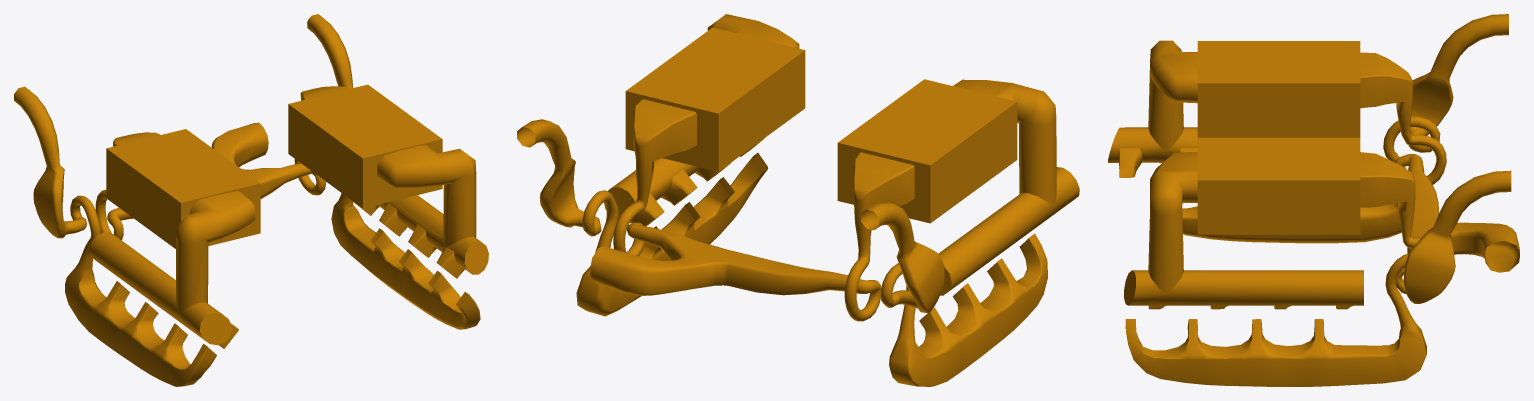
File: qilu.fbx
3 renders of one model, left to right at view 1: azimuth 30°, elevation 25°; view 2: azimuth 150°, elevation 25°; view 3: azimuth 270°, elevation 25°, orthographic. The views are drawn at different scales.
Parts seen in each view (by area): view 1: qilu, jinqi_003; view 2: qilu, jinqi_003; view 3: qilu, jinqi_003.
Part boxes in pixels (bbox=[...]): qilu: bbox=[14, 14, 480, 386]; jinqi_003: bbox=[89, 145, 488, 348]; qilu: bbox=[517, 27, 1047, 386]; jinqi_003: bbox=[604, 14, 1079, 295]; qilu: bbox=[1125, 14, 1519, 386]; jinqi_003: bbox=[1108, 40, 1363, 309].
Bounding box in the file's own units: 109 × 63.4 × 109.
